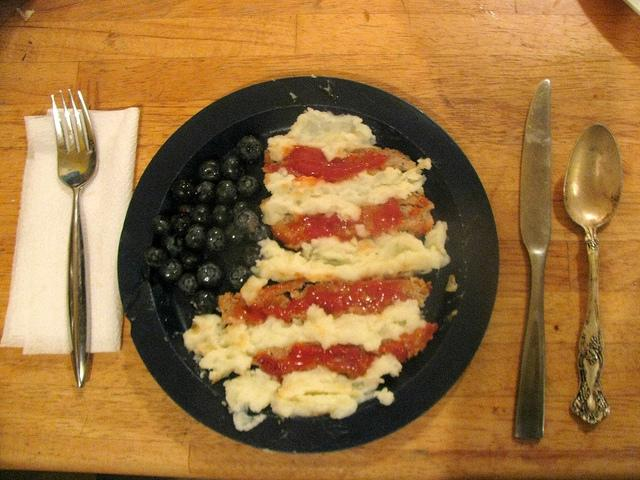blueberry: (235, 135, 262, 163), (220, 155, 248, 182), (197, 260, 223, 288), (190, 289, 218, 315), (158, 236, 188, 260), (234, 210, 260, 236), (228, 264, 253, 290), (159, 258, 184, 283), (199, 160, 223, 186), (170, 180, 196, 204), (206, 226, 228, 253), (246, 223, 274, 244), (144, 245, 168, 269), (236, 174, 259, 199), (177, 273, 200, 297), (242, 243, 264, 268), (150, 215, 173, 238), (225, 220, 247, 244), (194, 181, 217, 203), (190, 204, 212, 227), (215, 181, 238, 203), (185, 229, 207, 251), (172, 214, 192, 236), (180, 250, 200, 270), (213, 213, 234, 230), (170, 203, 194, 216), (233, 202, 249, 216)
